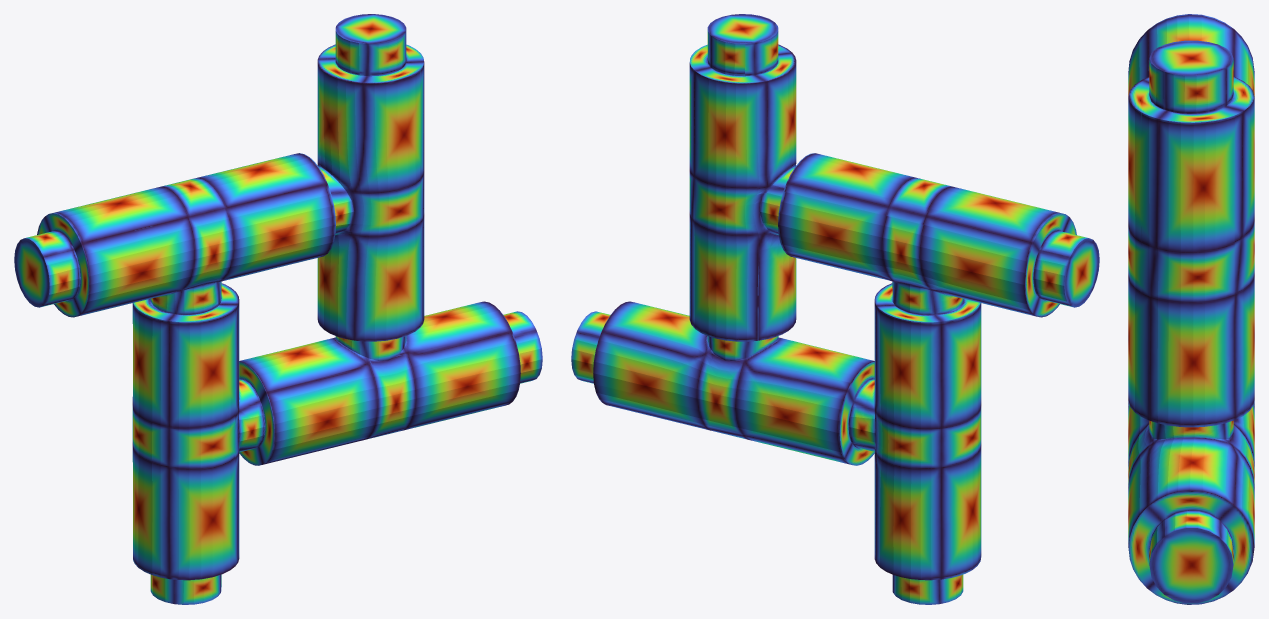
Rendered from gen1.glb.
3 renders of one model, left to right at view 1: azimuth 30°, elevation 25°; view 2: azimuth 150°, elevation 25°; view 3: azimuth 270°, elevation 25°, orthographic. The views are drawn at different scales.
Visible parts, largest first — view 1: Node; view 2: Node; view 3: Node.
Part boxes in pixels (<box>): Node: <box>14,14,542,604</box>; Node: <box>571,14,1099,604</box>; Node: <box>1128,14,1254,604</box>.
Size of the model in its own units: 320 by 320 by 60.
Materials: 1 (1 with a texture image).
